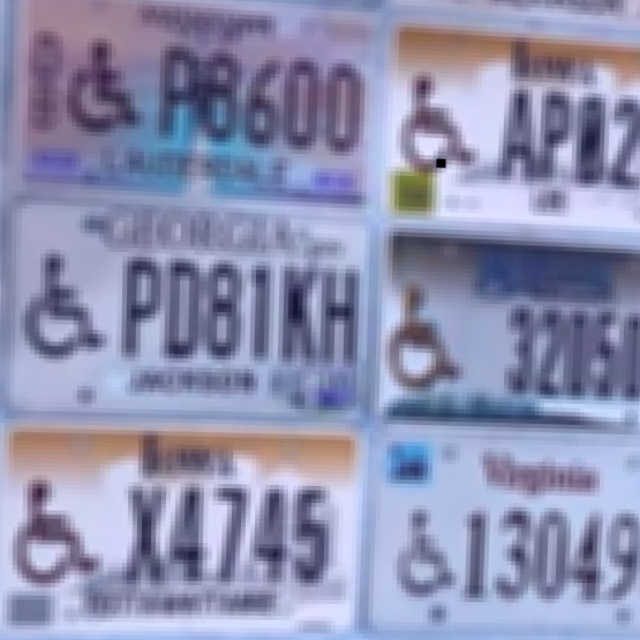ISA: (21, 247, 109, 363), (11, 478, 100, 587), (64, 26, 144, 141), (387, 283, 463, 391), (403, 67, 478, 176), (396, 502, 456, 597)
